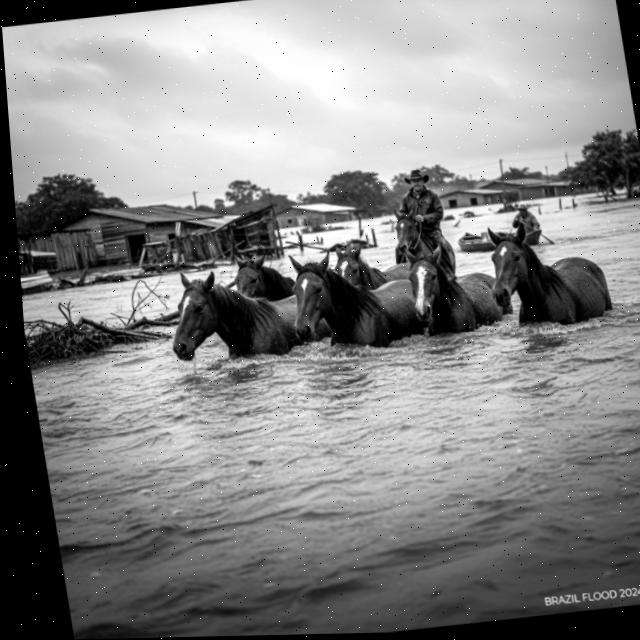civilian: (379, 161, 459, 277), (509, 197, 544, 242)
horse: (158, 252, 341, 372), (280, 234, 439, 363), (480, 214, 626, 344), (397, 238, 520, 342), (383, 200, 466, 283), (326, 234, 427, 301), (227, 245, 306, 318)
